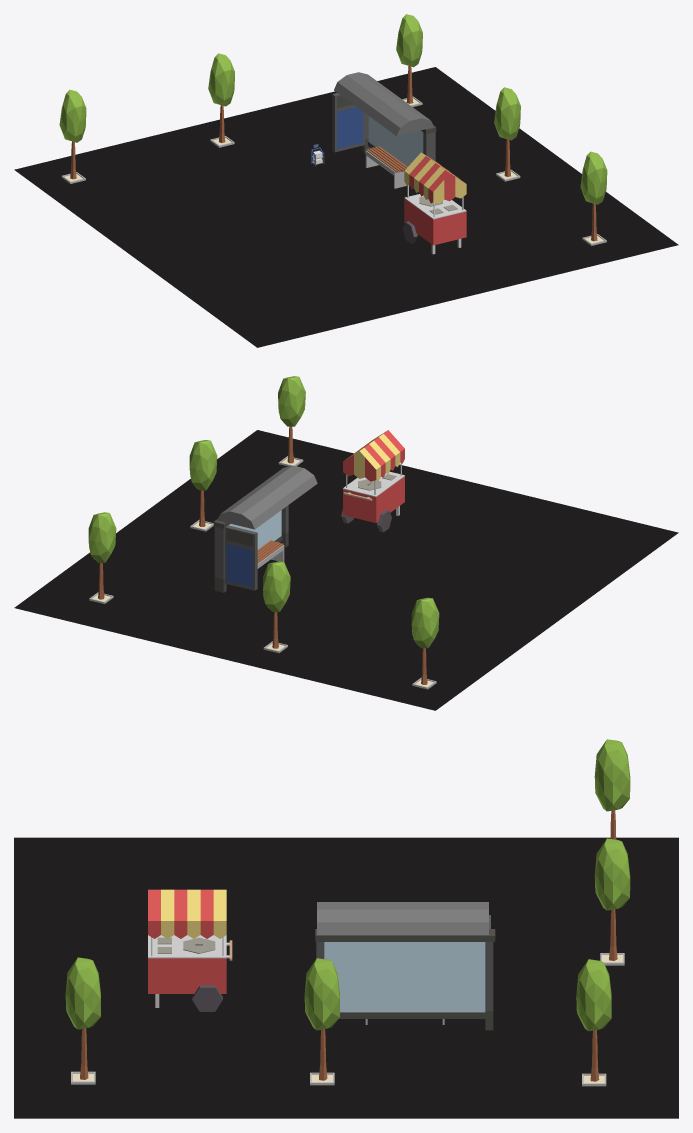
File: CombinedMesh-MeshBaker-seg_0_ring_0-mesh.fbx
3 renders of one model, top to bottom at view 1: azimuth 30°, elevation 25°; view 2: azimuth 150°, elevation 25°; view 3: azimuth 270°, elevation 25°, orthographic. The views are drawn at different scales.
Visible parts, largest first — view 1: MeshBaker_seg_0_ring_0_mesh_mesh; view 2: MeshBaker_seg_0_ring_0_mesh_mesh; view 3: MeshBaker_seg_0_ring_0_mesh_mesh.
Part boxes in pixels (x1,y1,x2,y2): MeshBaker_seg_0_ring_0_mesh_mesh: (14, 14, 678, 347); MeshBaker_seg_0_ring_0_mesh_mesh: (14, 376, 678, 710); MeshBaker_seg_0_ring_0_mesh_mesh: (14, 739, 678, 1118).
Bounding box in the file's own units: 3000 × 590 × 3000.
